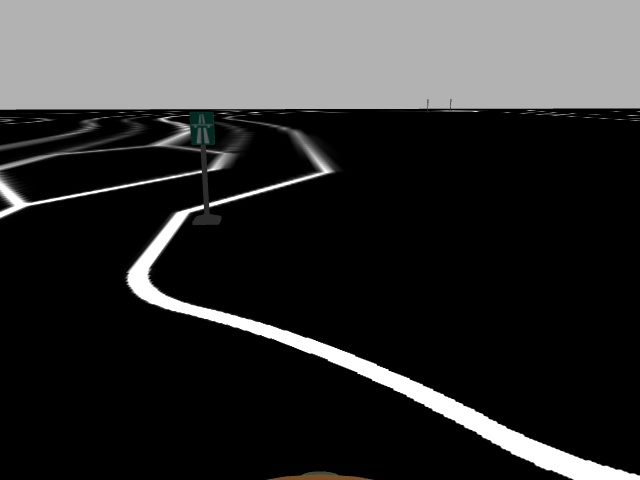enter_highway: (186, 110, 217, 146)
